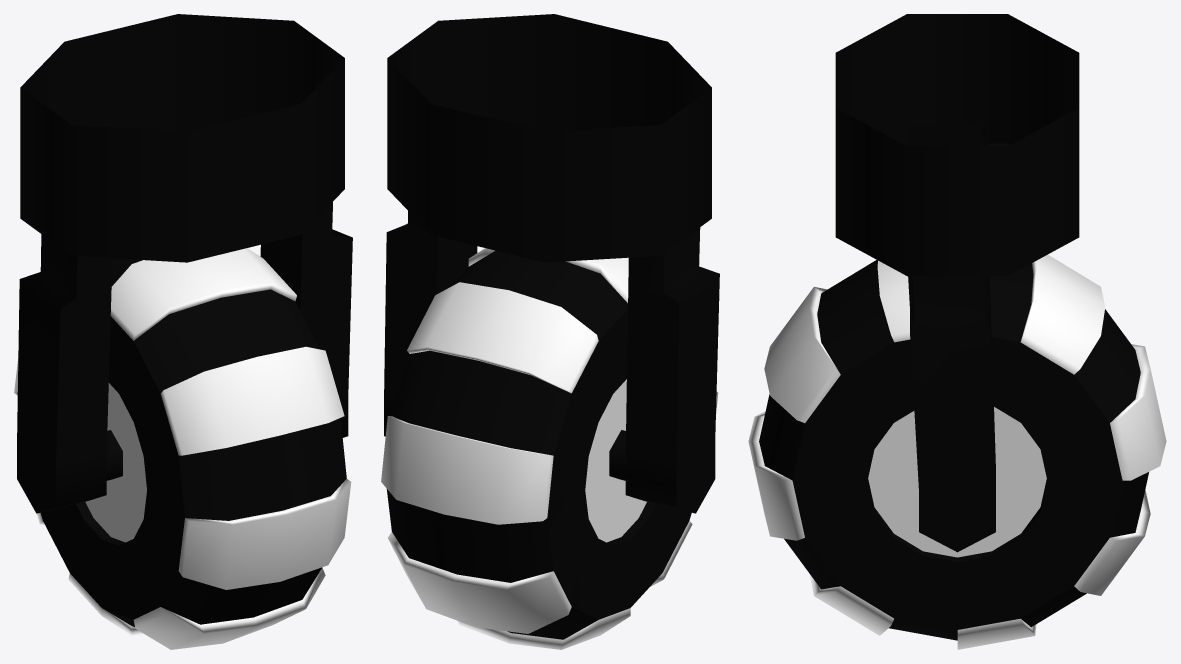
The model's file is RobotBase_(noAnim).fbx.
3 views of the same model, side by side, from view 1: azimuth 30°, elevation 25°; view 2: azimuth 150°, elevation 25°; view 3: azimuth 270°, elevation 25° (orthographic).
Parts seen in each view (by area): view 1: RobotBase_geo; view 2: RobotBase_geo; view 3: RobotBase_geo.
Boxes of the visible parts, left/top/right/bottom form: RobotBase_geo: left=14, top=14, right=352, bottom=649; RobotBase_geo: left=381, top=14, right=719, bottom=649; RobotBase_geo: left=748, top=14, right=1166, bottom=649.
Bounding box in the file's own units: 5.85 × 10.63 × 7.31.
1 material, 1 textured.
